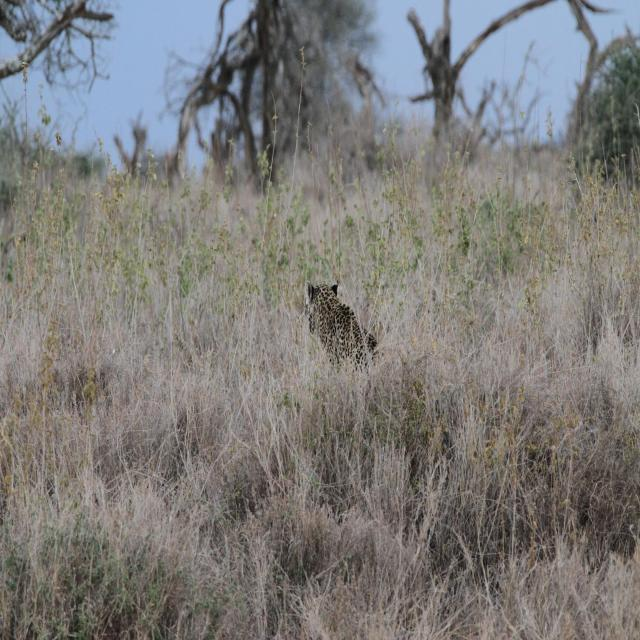Leopard: (298, 274, 378, 376)
